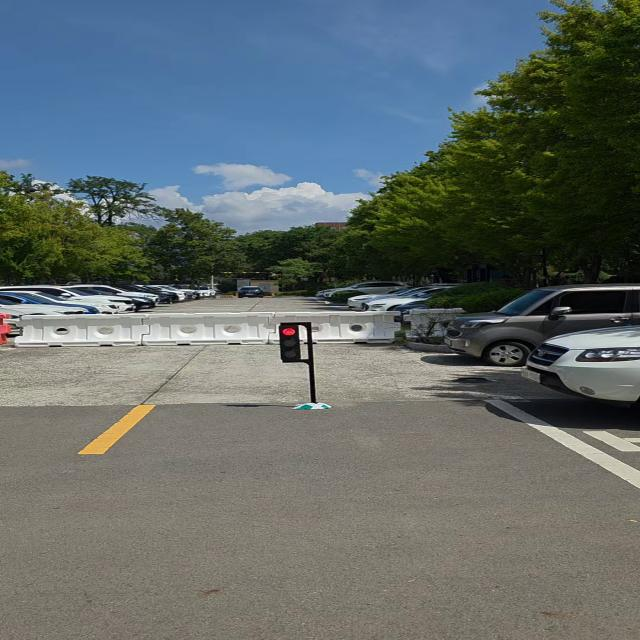red: (272, 324, 312, 364)
